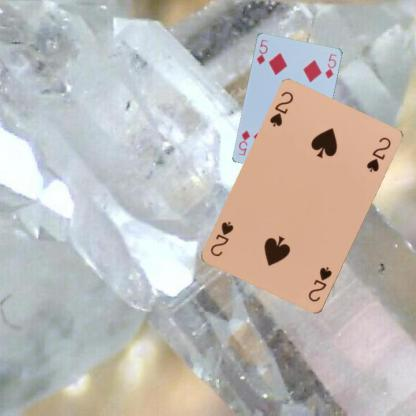2s: (267, 89, 295, 128), (306, 264, 333, 304)
5d: (254, 36, 269, 66)
